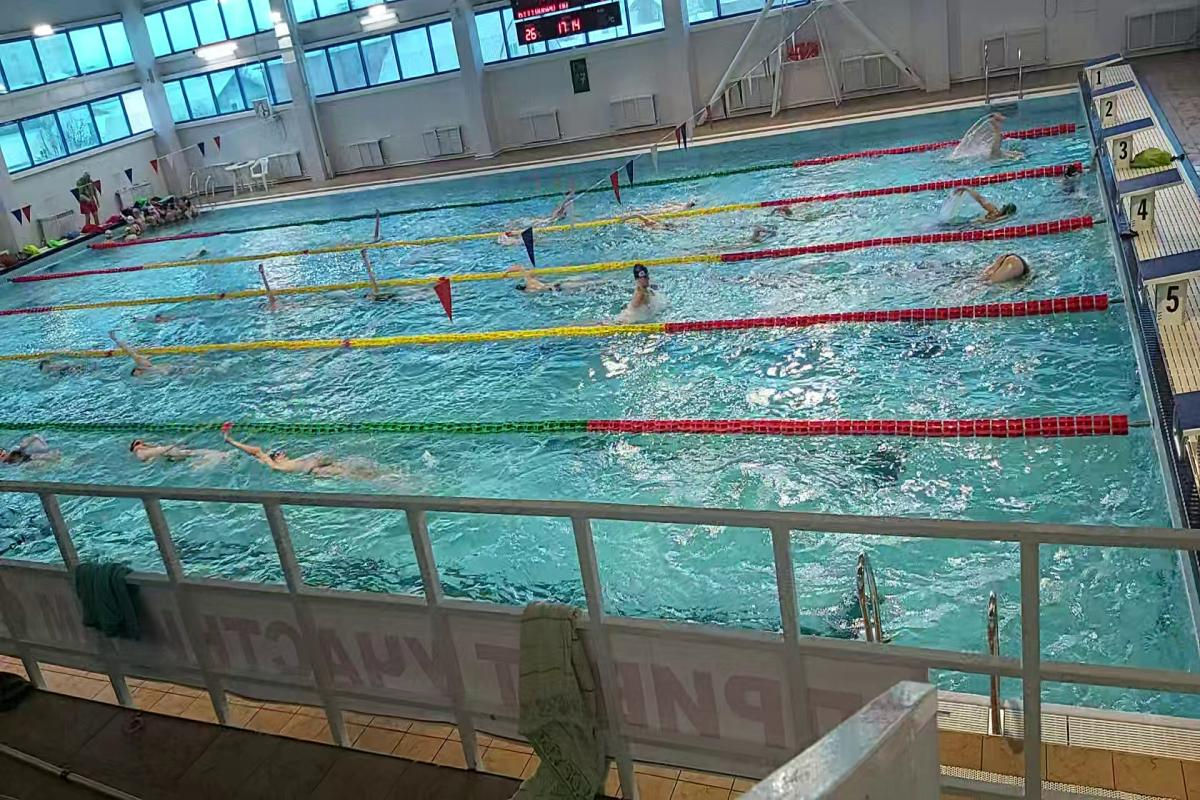swimmer: (214, 432, 396, 487), (107, 325, 187, 383), (356, 245, 422, 305), (126, 430, 215, 470), (502, 262, 600, 294), (947, 181, 1020, 222), (249, 260, 300, 316), (2, 435, 72, 470), (980, 244, 1038, 286), (624, 264, 668, 309), (620, 206, 678, 235), (718, 225, 784, 248), (30, 360, 92, 379)
